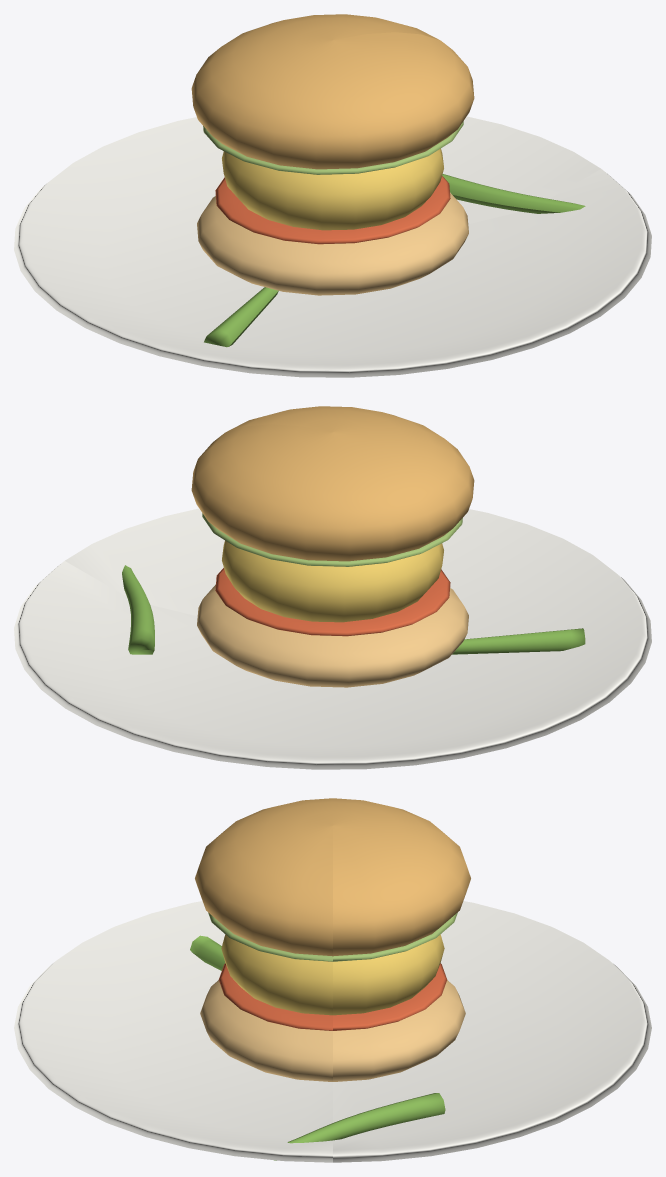
Rendered from vada-pav.glb.
3 renders of one model, top to bottom at view 1: azimuth 30°, elevation 25°; view 2: azimuth 150°, elevation 25°; view 3: azimuth 270°, elevation 25°, orthographic.
Parts seen in each view (by area): view 1: vada-pav; view 2: vada-pav; view 3: vada-pav.
Part boxes in pixels (<box>): vada-pav: <box>14,14,651,377</box>; vada-pav: <box>14,406,651,769</box>; vada-pav: <box>14,798,651,1162</box>.
Size of the model in its own units: 0.24 by 0.096 by 0.24.
